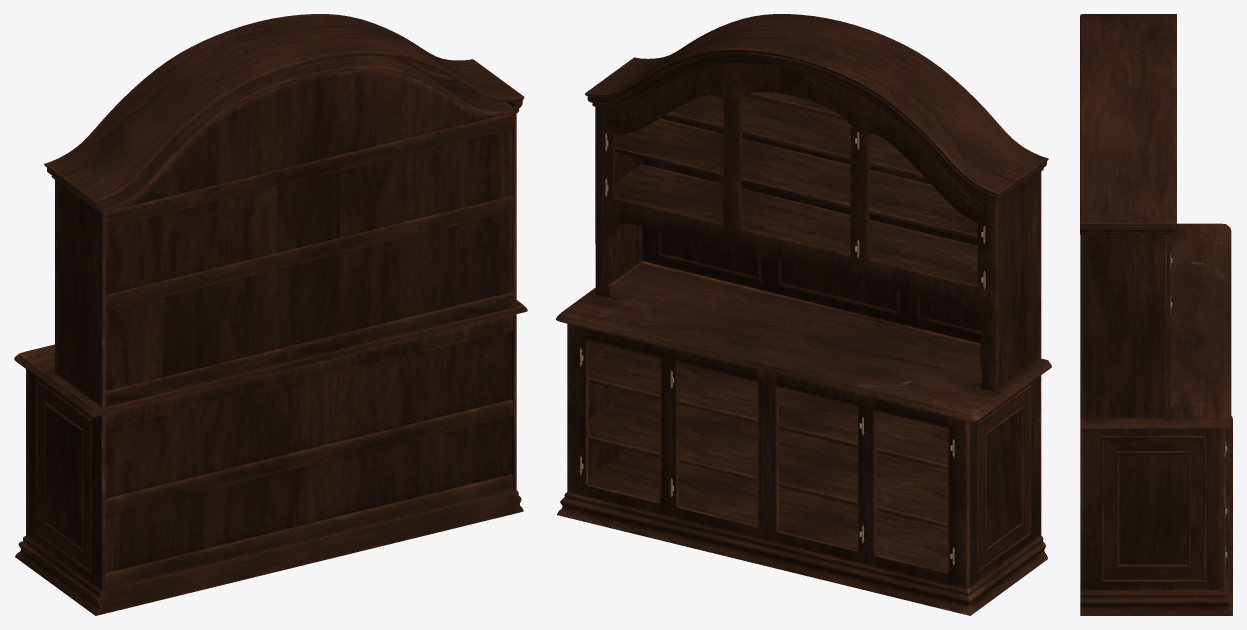
The model's file is cabinet-display.glb.
The picture shows the model from 3 angles, left to right: view 1: azimuth 30°, elevation 25°; view 2: azimuth 150°, elevation 25°; view 3: azimuth 270°, elevation 25°; orthographic projection. The views are drawn at different scales.
Parts seen in each view (by area): view 1: cabinet-display; view 2: cabinet-display; view 3: cabinet-display.
Boxes of the visible parts, x1,y1,x2,y2 form: cabinet-display: [14, 14, 527, 615]; cabinet-display: [556, 14, 1051, 615]; cabinet-display: [1080, 14, 1232, 615].
Bounding box in the file's own units: 2.02 × 2.24 × 0.6483.
Materials: 2 (2 with a texture image).
